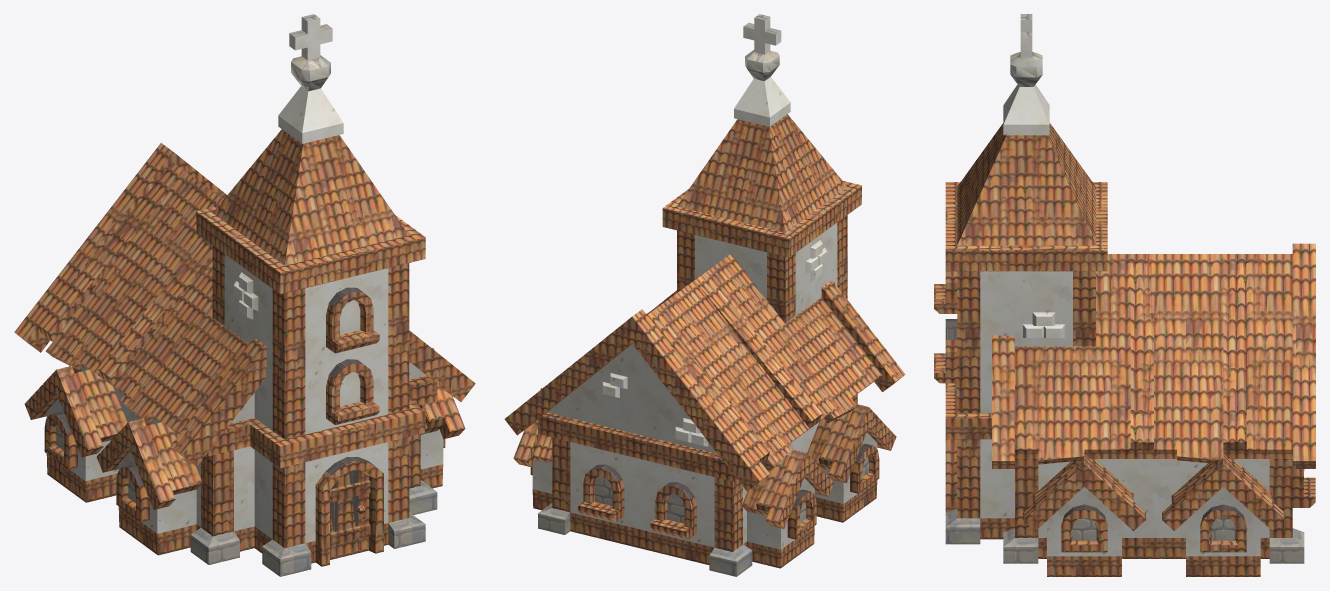
Rendered from building_church_red.gltf.
3 views of the same model, side by side, from view 1: azimuth 30°, elevation 25°; view 2: azimuth 150°, elevation 25°; view 3: azimuth 270°, elevation 25° (orthographic). The views are drawn at different scales.
Visible parts, largest first — view 1: building_church_red; view 2: building_church_red; view 3: building_church_red.
Boxes of the visible parts, x1,y1,x2,y2 form: building_church_red: (14, 14, 475, 576); building_church_red: (504, 14, 905, 576); building_church_red: (934, 14, 1315, 576).
Bounding box in the file's own units: 1.03 × 1.65 × 1.16.
4 materials, 4 textured.
